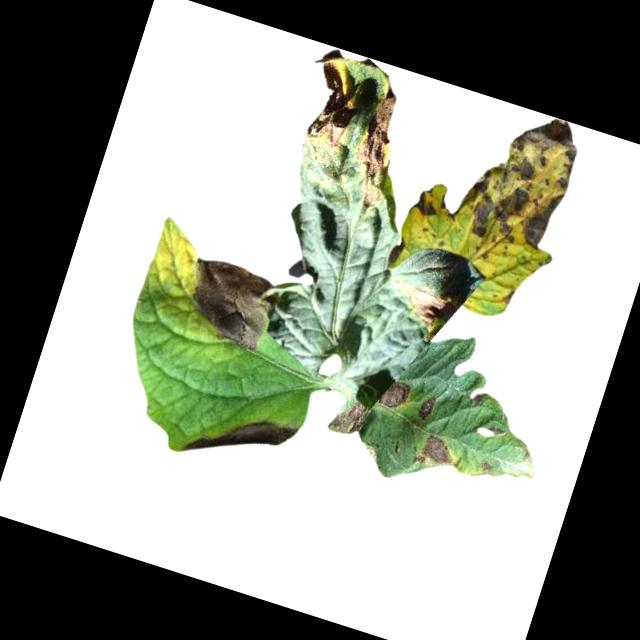Early_blight: (442, 95, 587, 262), (172, 252, 280, 352), (181, 398, 299, 482), (291, 45, 372, 164), (337, 83, 411, 211), (389, 281, 451, 334), (326, 395, 371, 445), (410, 430, 458, 475), (378, 378, 412, 413), (409, 186, 442, 219), (386, 233, 407, 266), (415, 393, 436, 421), (476, 459, 495, 476), (485, 425, 505, 441)
